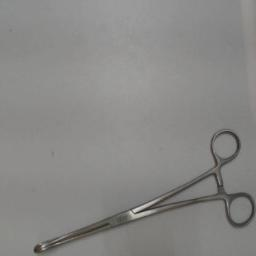Sponge Forceps: (30, 124, 256, 256)
